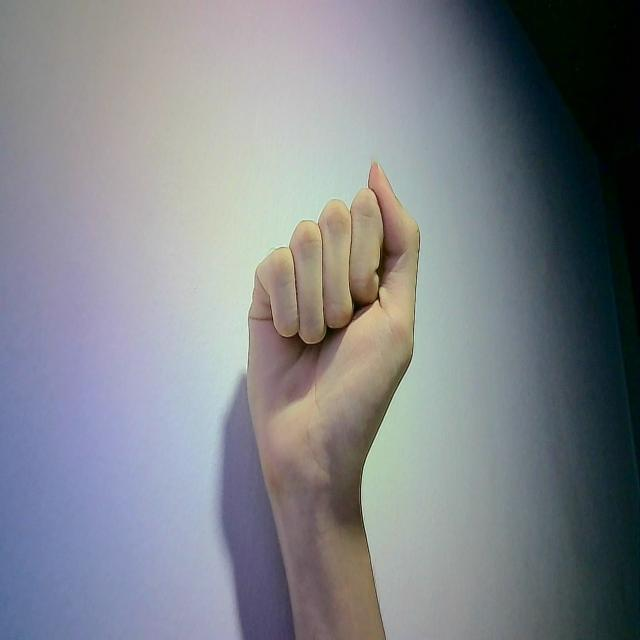A: (239, 149, 428, 476)
